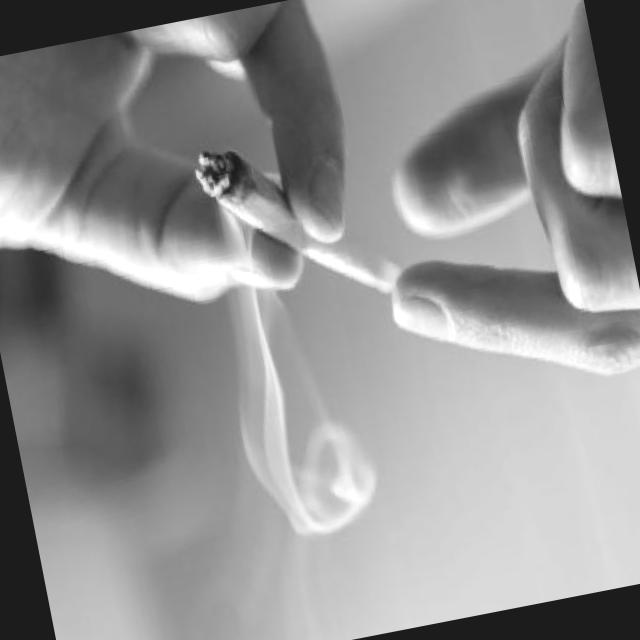smoke: (190, 117, 407, 328)
